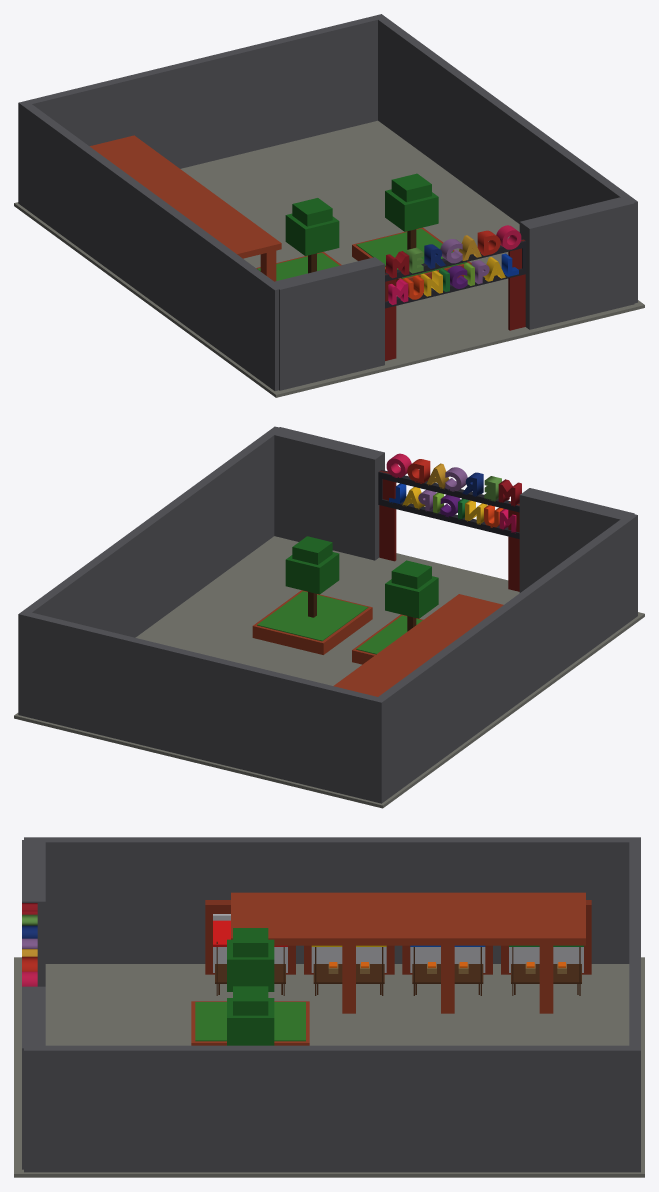
Rendered from MercadoMunicipal.obj.
3 renders of one model, top to bottom at view 1: azimuth 30°, elevation 25°; view 2: azimuth 150°, elevation 25°; view 3: azimuth 270°, elevation 25°, orthographic. The views are drawn at different scales.
Parts seen in each view (by area): view 1: Plaza_Piso, Pared_Perimetro_Fondo, Pared_Perimetro_Izq, Pared_Perimetro_Der, Pared_Fachada_Der, Pared_Fachada_Izq, Pasillo_Techo, Arbol_Jardinera_Izq_Follaje_1, Arbol_Jardinera_Der_Follaje_1, Plaza_Pasto_2, Portico_Puerta_Der, Arbol_Jardinera_Izq_Follaje_2 (+5 smaller); view 2: Pared_Perimetro_Fondo, Pared_Perimetro_Izq, Plaza_Piso, Pared_Perimetro_Der, Pared_Fachada_Der, Pared_Fachada_Izq, Pasillo_Techo, Plaza_Pasto_2, Plaza_Jardinera_2, Arbol_Jardinera_Der_Follaje_1, Arbol_Jardinera_Izq_Follaje_1, Portico_Puerta_Der (+6 smaller); view 3: Pared_Perimetro_Der, Pared_Perimetro_Izq, Plaza_Piso, Pasillo_Techo, Pared_Perimetro_Fondo, Plaza_Pasto_1, Pared_Fachada_Izq, Arbol_Jardinera_Izq_Follaje_1, Arbol_Jardinera_Der_Follaje_1, Pared_Fachada_Der, Local_Muro_Trasero_1, Arbol_Jardinera_Der_Follaje_2 (+15 smaller).
Boxes of the visible parts, x1,y1,x2,y2 form: Plaza_Piso: [14, 120, 644, 397]; Pared_Perimetro_Fondo: [18, 14, 384, 204]; Pared_Perimetro_Izq: [21, 102, 282, 390]; Pared_Perimetro_Der: [376, 16, 637, 303]; Pared_Fachada_Der: [519, 196, 634, 329]; Pared_Fachada_Izq: [272, 257, 384, 390]; Pasillo_Techo: [90, 135, 281, 258]; Arbol_Jardinera_Izq_Follaje_1: [285, 213, 339, 255]; Arbol_Jardinera_Der_Follaje_1: [385, 189, 438, 231]; Plaza_Pasto_2: [356, 228, 467, 278]; Portico_Puerta_Der: [508, 239, 525, 330]; Arbol_Jardinera_Izq_Follaje_2: [292, 198, 332, 226]; Pared_Perimetro_Fondo: [18, 610, 386, 803]; Pared_Perimetro_Izq: [376, 513, 637, 801]; Plaza_Piso: [14, 536, 644, 808]; Pared_Perimetro_Der: [23, 426, 282, 637]; Pared_Fachada_Der: [271, 427, 384, 560]; Pared_Fachada_Izq: [519, 488, 634, 592]; Pasillo_Techo: [333, 594, 503, 696]; Plaza_Pasto_2: [257, 591, 368, 641]; Plaza_Jardinera_2: [252, 590, 372, 654]; Arbol_Jardinera_Der_Follaje_1: [285, 552, 339, 594]; Arbol_Jardinera_Izq_Follaje_1: [385, 576, 438, 618]; Portico_Puerta_Der: [379, 470, 396, 561]; Pared_Perimetro_Der: [24, 1045, 634, 1172]; Pared_Perimetro_Izq: [24, 837, 634, 963]; Plaza_Piso: [14, 957, 644, 1177]; Pasillo_Techo: [231, 892, 585, 945]; Pared_Perimetro_Fondo: [629, 837, 640, 1172]; Plaza_Pasto_1: [195, 1002, 305, 1041]; Pared_Fachada_Izq: [22, 840, 45, 986]; Arbol_Jardinera_Izq_Follaje_1: [227, 939, 274, 991]; Arbol_Jardinera_Der_Follaje_1: [227, 998, 274, 1045]; Pared_Fachada_Der: [22, 986, 45, 1169]; Local_Muro_Trasero_1: [205, 900, 295, 974]; Arbol_Jardinera_Der_Follaje_2: [233, 986, 268, 1015].
Size of the model in its own units: 26 by 7.19 by 32.
